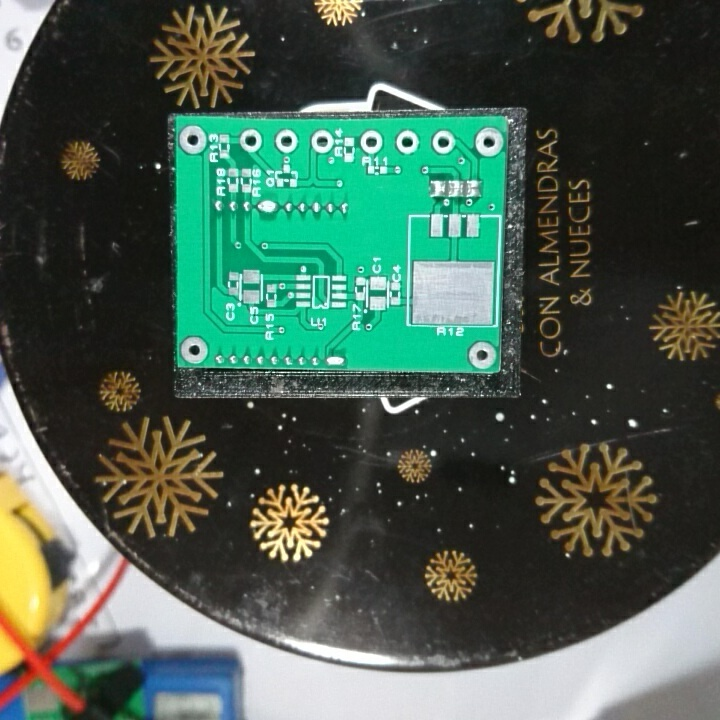F: (472, 124, 504, 160), (177, 122, 207, 159), (465, 338, 497, 371), (178, 335, 210, 366), (238, 126, 264, 158), (392, 128, 421, 156), (309, 128, 335, 158), (273, 128, 301, 155), (430, 128, 456, 157), (359, 129, 386, 156)
P: (254, 198, 279, 218), (324, 352, 347, 371)
